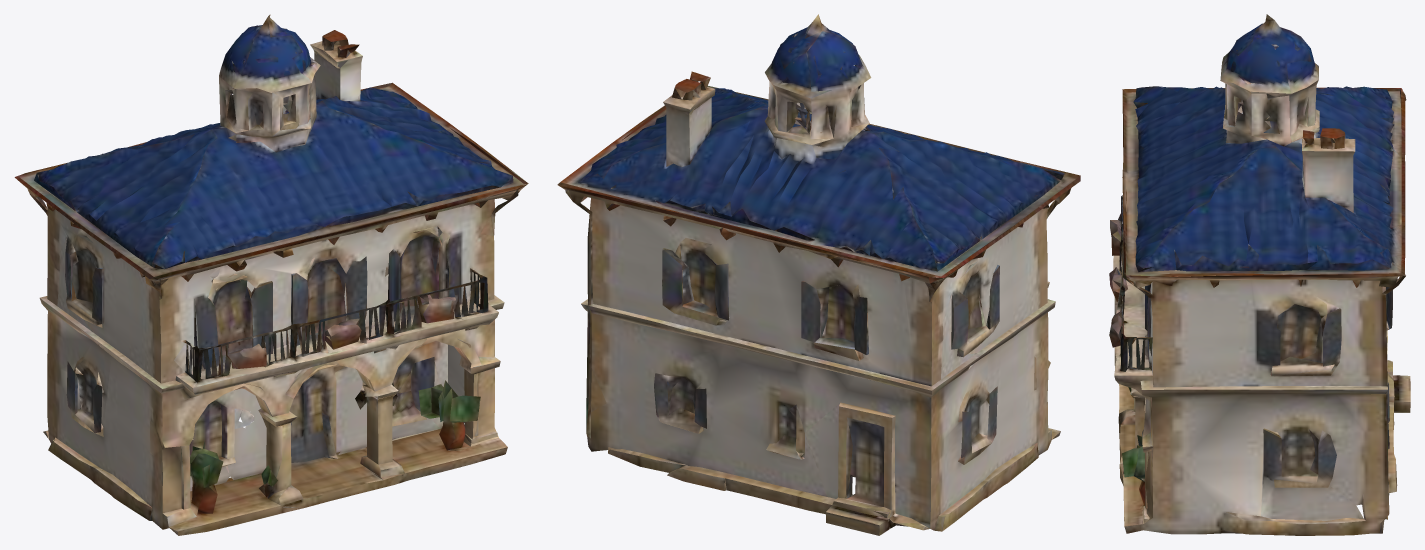
3 views of the same model, side by side, from view 1: azimuth 30°, elevation 25°; view 2: azimuth 150°, elevation 25°; view 3: azimuth 270°, elevation 25° (orthographic).
Visible parts, largest first — view 1: harbor__hotel_2__neural_lod; view 2: harbor__hotel_2__neural_lod; view 3: harbor__hotel_2__neural_lod.
Part boxes in pixels (x1,y1,x2,y2): harbor__hotel_2__neural_lod: [14, 14, 528, 535]; harbor__hotel_2__neural_lod: [557, 14, 1080, 535]; harbor__hotel_2__neural_lod: [1109, 14, 1410, 535].
Size of the model in its own units: 0.9168 by 0.9927 by 0.6178.
Materials: 1 (1 with a texture image).
